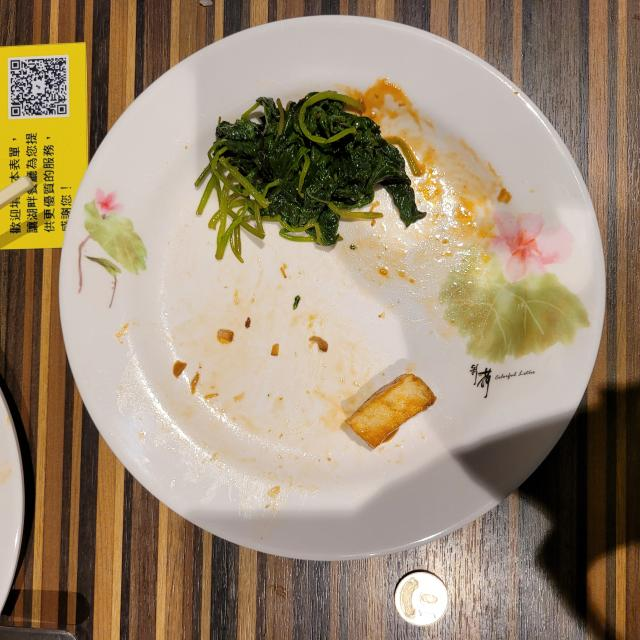coin: (395, 571, 448, 626)
creamy tofu: (345, 374, 436, 448)
sweet potato leaves: (195, 91, 425, 261)
